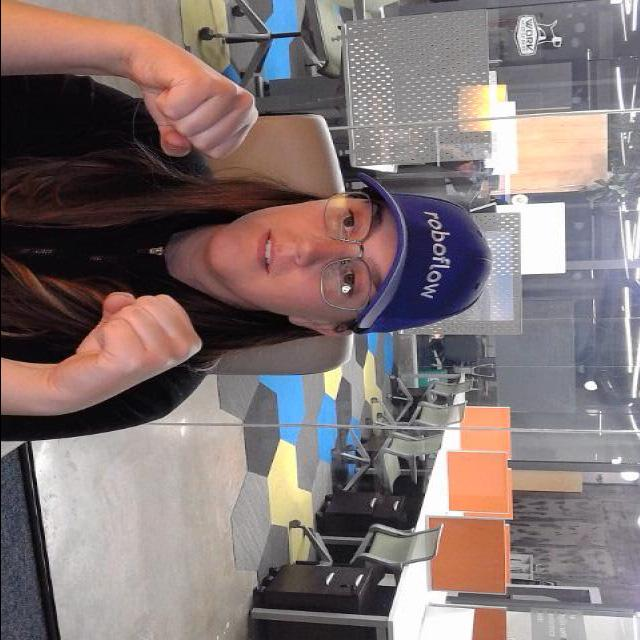Rock: (109, 34, 271, 162), (68, 286, 206, 372)
